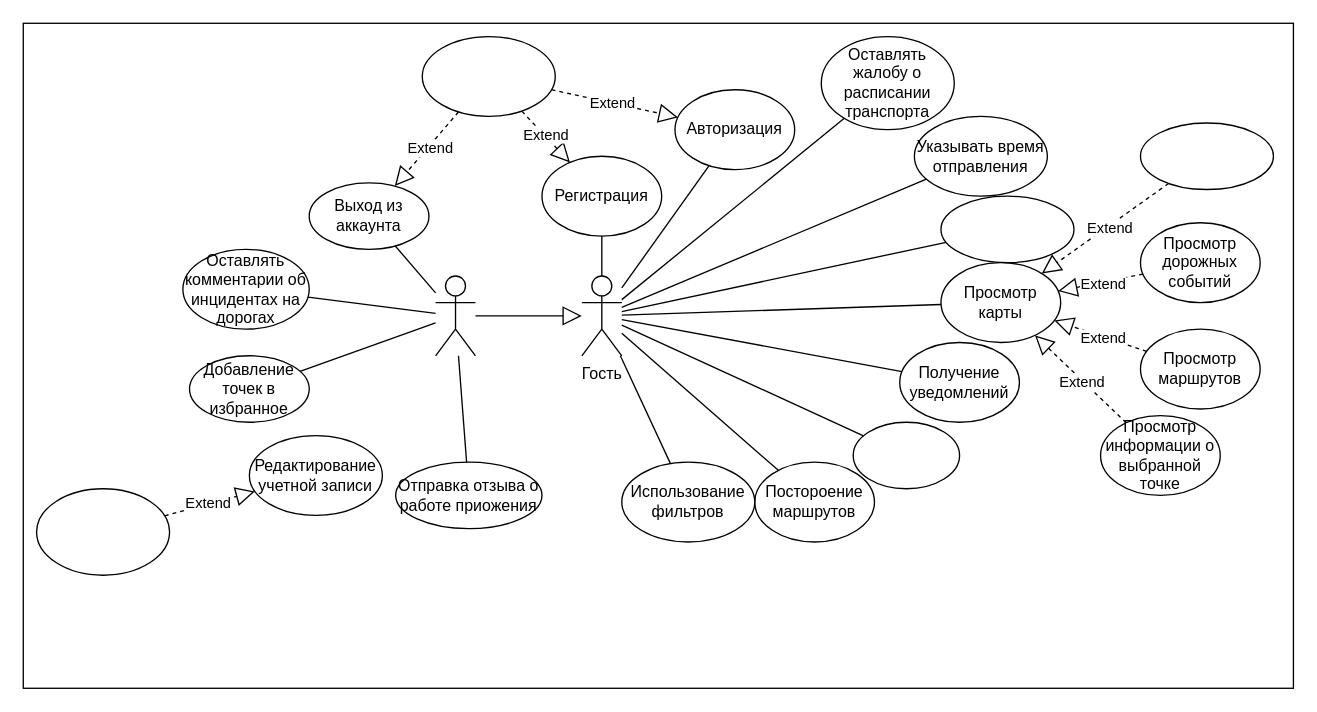
Some shapes in this 1317 by 712 pixel diagram are drawn without their labels. Each missing label, with the centre of its shape:
Восстановление аккаунта: the point at 488,75
Изменение данных учетной записи: the point at 102,531
Поиск остановок: the point at 1007,229
Пользователь: the point at 454,315
Просмотр информации о транспорте: the point at 1206,156
Смена настроек: the point at 906,455
